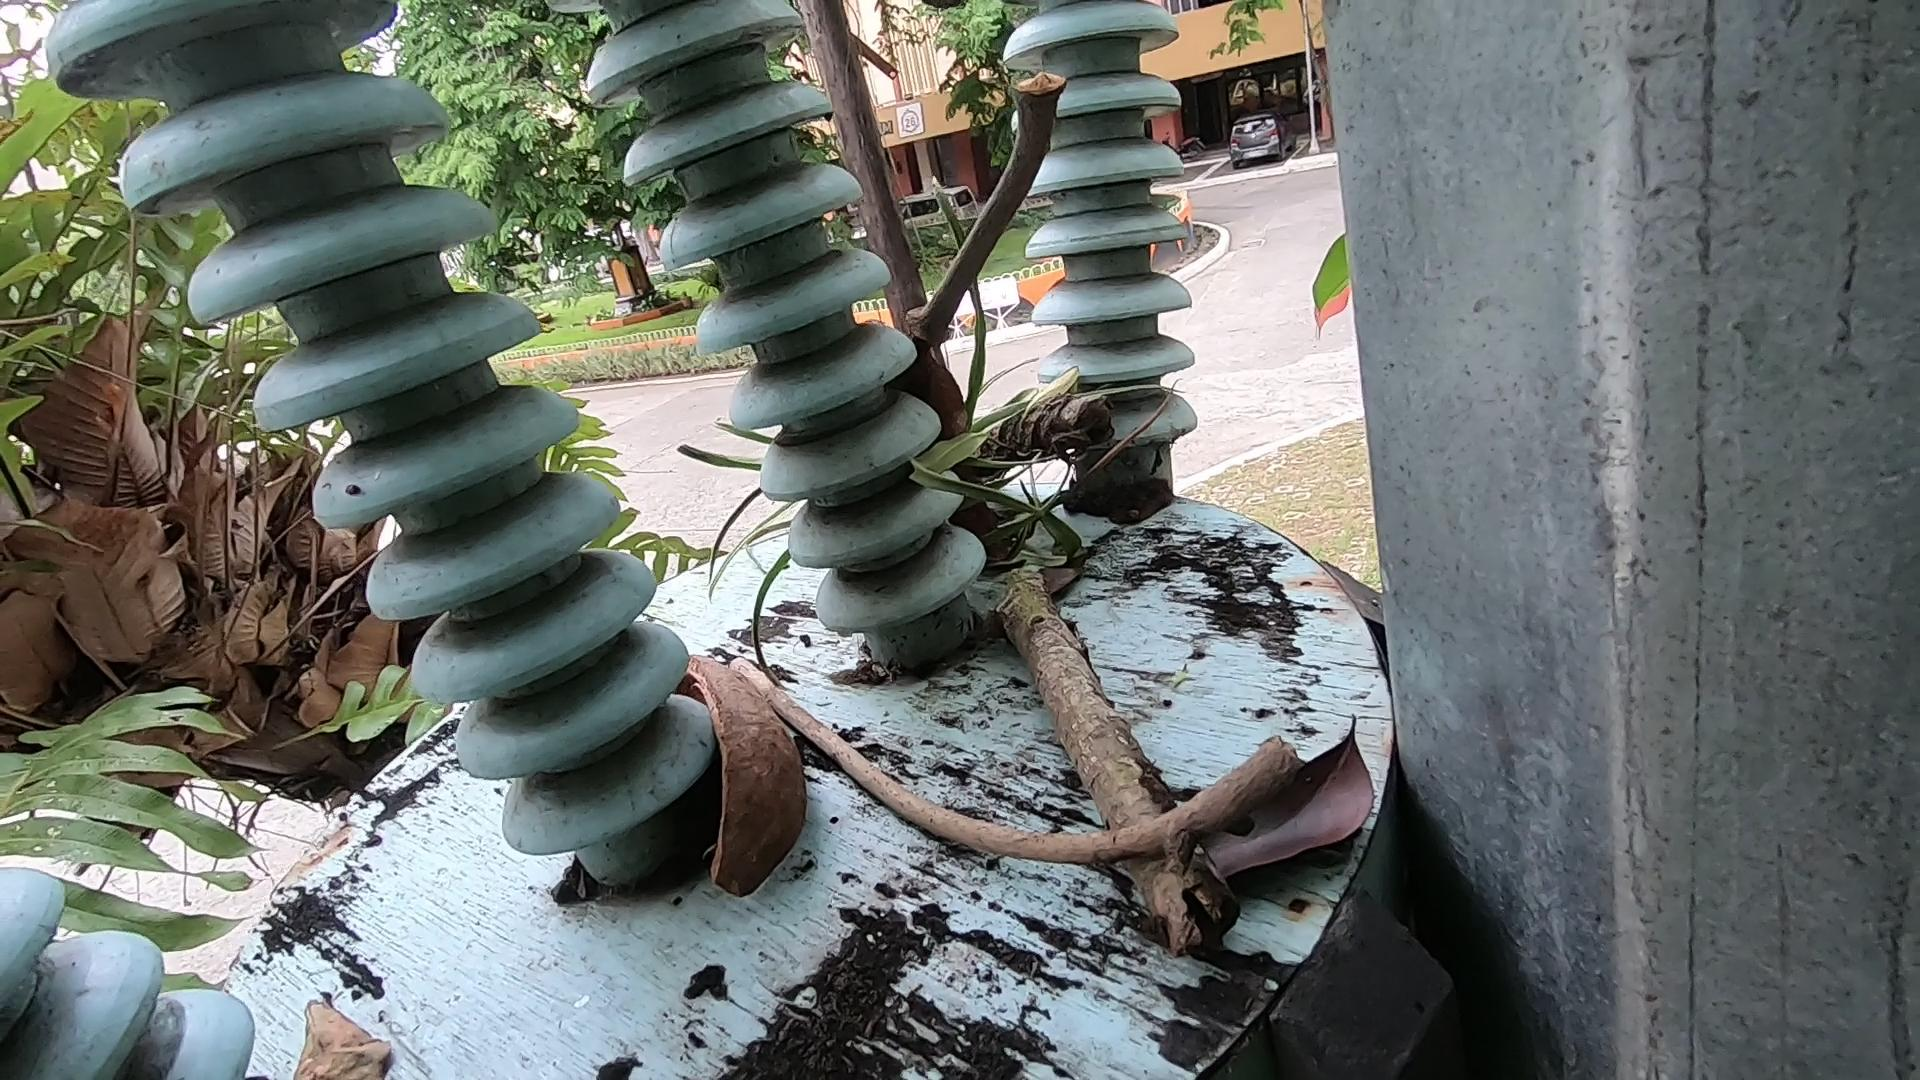branch with leaves: (918, 323, 1317, 1055)
leaf: (1216, 644, 1435, 932), (285, 963, 423, 1080)
mahogany fruit: (626, 626, 903, 1007), (881, 315, 1106, 671)
tree branch: (704, 649, 1509, 869), (928, 26, 1108, 382)
